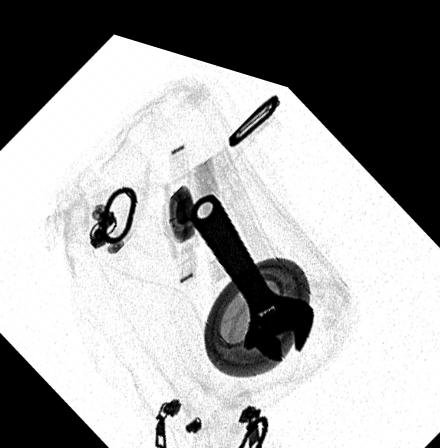Wrench: (186, 179, 315, 347)
